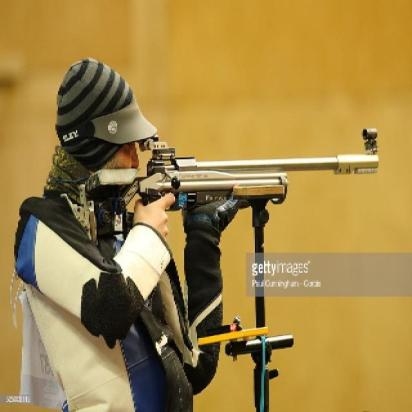Gun: (78, 122, 384, 232)
